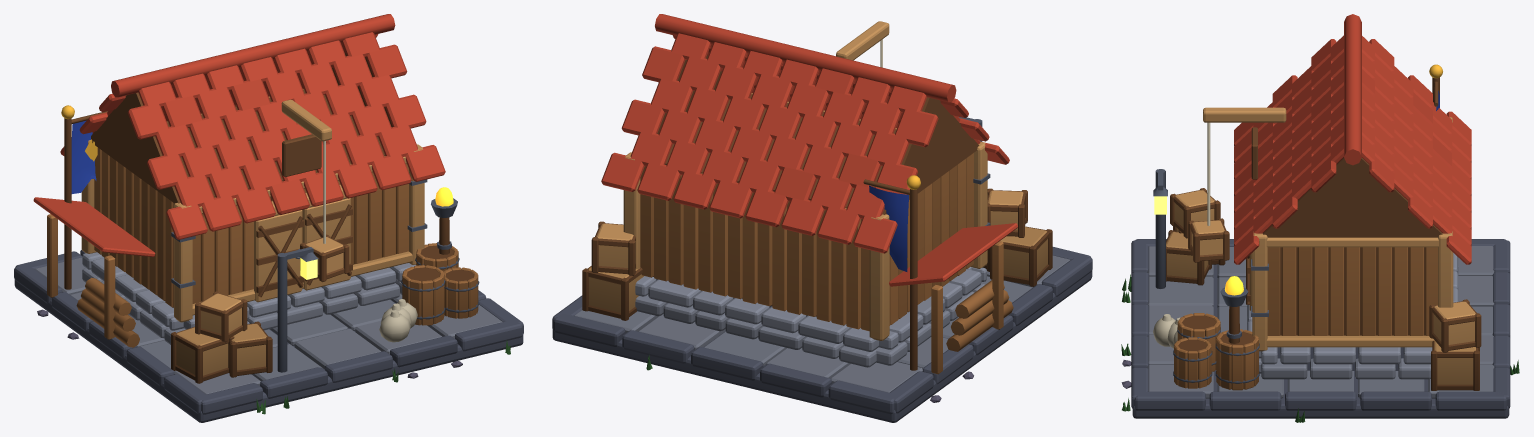
File: warehouse.glb
The picture shows the model from 3 angles, left to right: view 1: azimuth 30°, elevation 25°; view 2: azimuth 150°, elevation 25°; view 3: azimuth 270°, elevation 25°; orthographic projection. The views are drawn at different scales.
Parts seen in each view (by area): view 1: t0_roof_red, t0_wood, t0_stone, t0_stone_dark, t0_wood_light, t0_wood_dark, t1_wood, t1_roof_red, t0_iron, t0_cloth_cream, t3_wood_dark, t3_cloth_blue (+1 smaller); view 2: t0_roof_red, t0_wood, t0_stone, t0_stone_dark, t0_wood_light, t0_wood_dark, t1_wood, t3_wood_dark, t1_roof_red, t3_wood_light, t3_cloth_blue; view 3: t0_roof_red, t0_wood, t0_stone_dark, t0_stone, t0_wood_dark, t0_wood_light, t3_wood_dark, t3_wood_light, t0_iron, t0_cloth_cream, t2_iron, t0_moss.
Boxes of the visible parts, bbox=[...] form: t0_roof_red: bbox=[60, 14, 445, 239]; t0_wood: bbox=[94, 89, 478, 325]; t0_stone: bbox=[35, 252, 502, 394]; t0_stone_dark: bbox=[14, 249, 523, 422]; t0_wood_light: bbox=[81, 99, 424, 375]; t0_wood_dark: bbox=[91, 53, 473, 383]; t1_wood: bbox=[47, 214, 139, 347]; t1_roof_red: bbox=[33, 197, 155, 256]; t0_iron: bbox=[277, 247, 479, 372]; t0_cloth_cream: bbox=[323, 141, 417, 342]; t3_wood_dark: bbox=[64, 111, 107, 289]; t3_cloth_blue: bbox=[71, 120, 96, 193]; t0_roof_red: bbox=[601, 14, 1009, 253]; t0_wood: bbox=[640, 93, 973, 331]; t0_stone: bbox=[574, 255, 1069, 392]; t0_stone_dark: bbox=[552, 247, 1092, 422]; t0_wood_light: bbox=[623, 21, 1047, 340]; t0_wood_dark: bbox=[653, 55, 1052, 316]; t1_wood: bbox=[931, 241, 1013, 374]; t3_wood_dark: bbox=[582, 179, 917, 370]; t1_roof_red: bbox=[889, 223, 1017, 286]; t3_wood_light: bbox=[588, 223, 643, 312]; t3_cloth_blue: bbox=[869, 185, 908, 271]; t0_roof_red: bbox=[1234, 14, 1471, 264]; t0_wood: bbox=[1174, 247, 1437, 390]; t0_stone_dark: bbox=[1131, 239, 1510, 418]; t0_stone: bbox=[1147, 246, 1494, 398]; t0_wood_dark: bbox=[1166, 127, 1442, 351]; t0_wood_light: bbox=[1166, 107, 1453, 351]; t3_wood_dark: bbox=[1429, 77, 1481, 390]; t3_wood_light: bbox=[1433, 301, 1475, 384]; t0_iron: bbox=[1153, 169, 1259, 383]; t0_cloth_cream: bbox=[1153, 122, 1210, 348]; t2_iron: bbox=[1220, 259, 1268, 338]; t0_moss: bbox=[1121, 274, 1519, 422].
Size of the model in its own units: 3.12 by 2.25 by 3.11.
